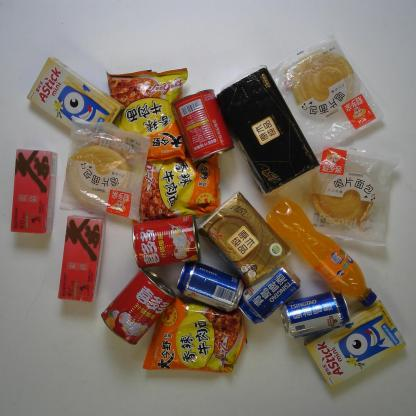Alcohol: (235, 260, 300, 323), (176, 260, 244, 312), (281, 290, 350, 338)
Canned Food: (100, 268, 176, 345), (171, 89, 235, 163), (131, 214, 201, 267)
Dessert: (268, 37, 384, 156), (59, 115, 150, 223), (311, 142, 399, 248), (303, 299, 407, 387), (26, 57, 125, 141)
Drink: (266, 197, 376, 306)
Instant Drink: (58, 216, 106, 303), (11, 150, 58, 236)
Instant Noodles: (142, 292, 248, 374), (105, 67, 188, 160), (134, 154, 219, 220)
Tissue: (216, 64, 320, 195), (198, 191, 291, 286)
